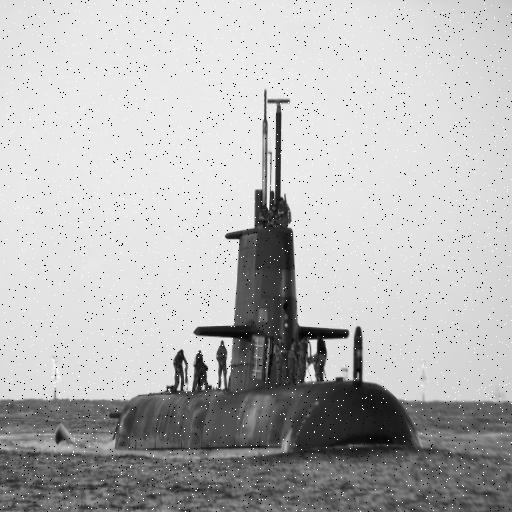submarine: (56, 91, 423, 451)
